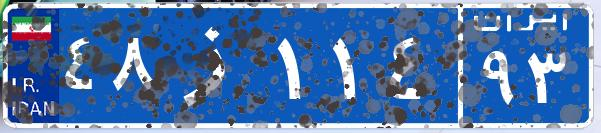1: (273, 28, 330, 110), (330, 28, 385, 110)
3: (525, 38, 570, 115)
4: (385, 28, 445, 110), (57, 26, 110, 107)
8: (110, 28, 158, 105)
9: (475, 38, 525, 113)
ز: (158, 15, 273, 115)
